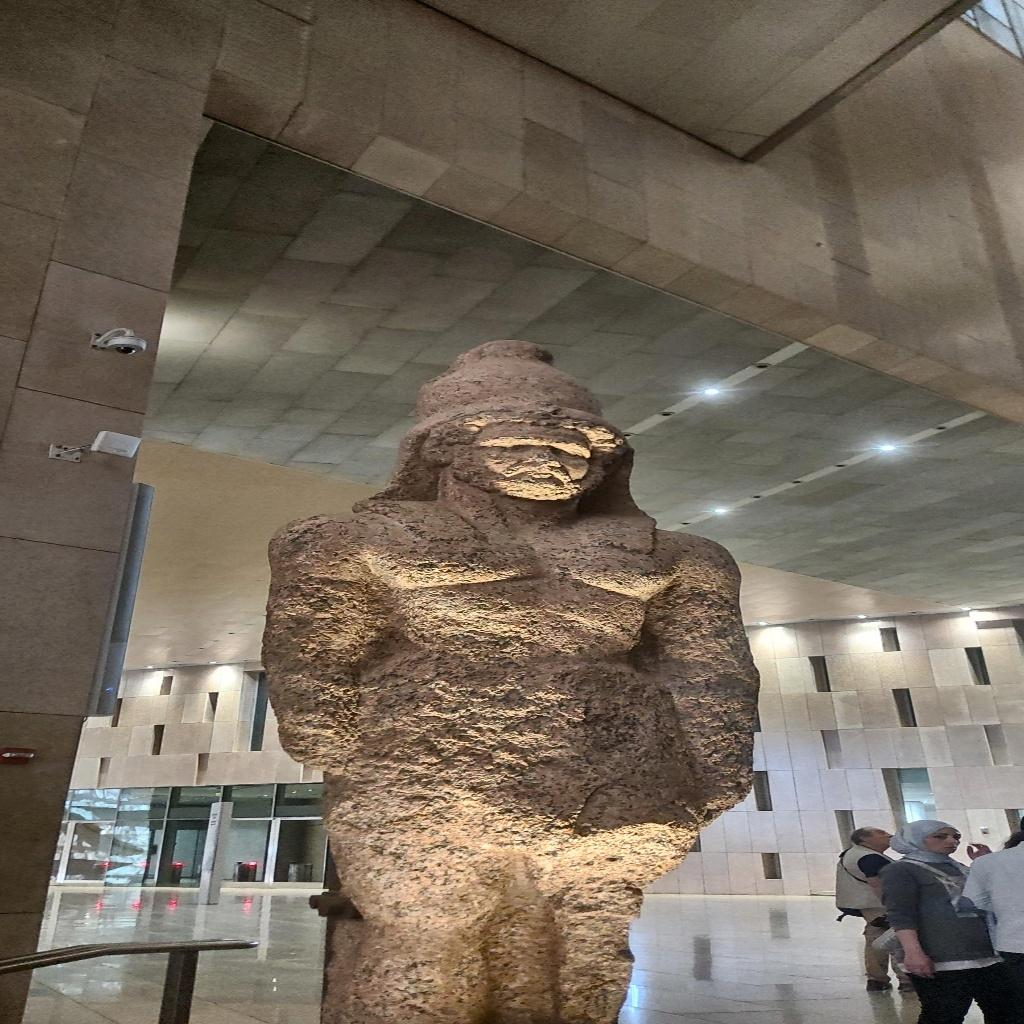Statue of Carcala: (254, 337, 765, 1021)
